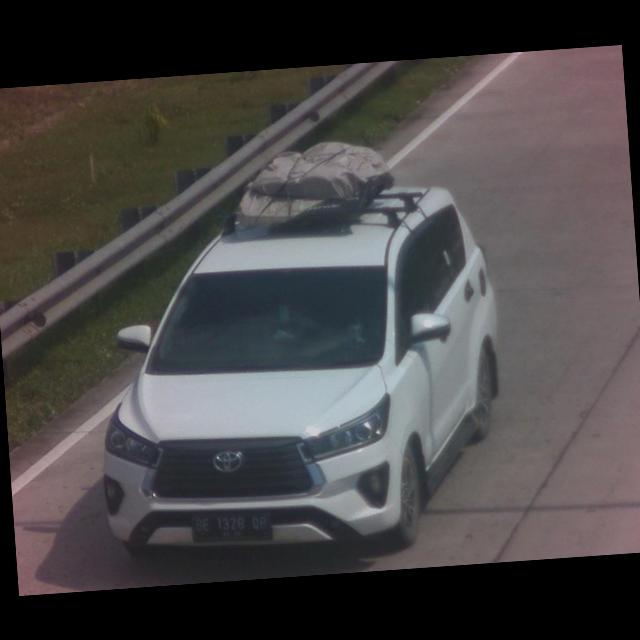plate: (187, 508, 273, 546)
